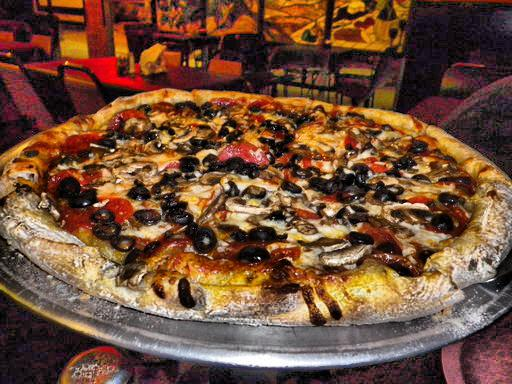pizza: (9, 88, 502, 311)
